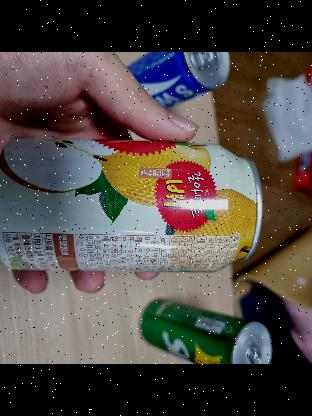Can: (0, 110, 280, 297)
